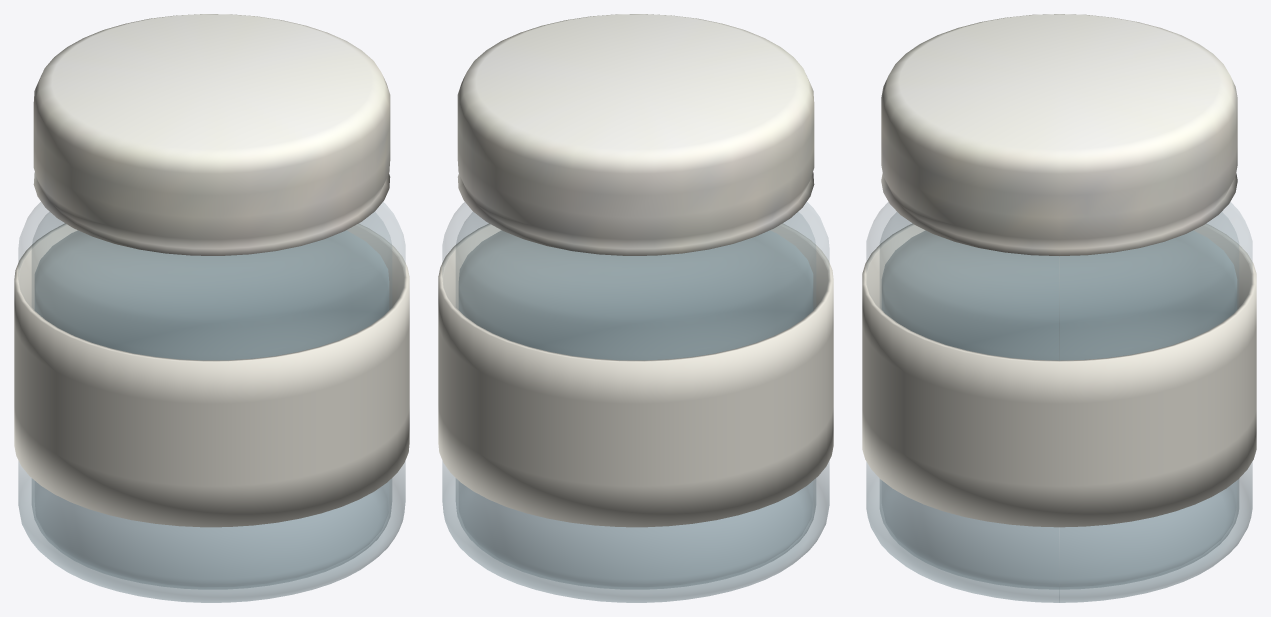
File: powder-jar.glb
3 views of the same model, side by side, from view 1: azimuth 30°, elevation 25°; view 2: azimuth 150°, elevation 25°; view 3: azimuth 270°, elevation 25° (orthographic).
Visible parts, largest first — view 1: powder-jar-label, powder-jar-lid, powder-jar-glass, powder-jar-inner; view 2: powder-jar-label, powder-jar-lid, powder-jar-glass, powder-jar-inner; view 3: powder-jar-label, powder-jar-lid, powder-jar-glass, powder-jar-inner.
Boxes of the visible parts, box(x1,y1,x2,y2) form: powder-jar-label: box(14, 223, 409, 527); powder-jar-lid: box(33, 14, 390, 255); powder-jar-glass: box(18, 202, 405, 602); powder-jar-inner: box(35, 230, 388, 586); powder-jar-label: box(438, 223, 833, 527); powder-jar-lid: box(457, 14, 814, 255); powder-jar-glass: box(442, 202, 829, 602); powder-jar-inner: box(459, 230, 812, 586); powder-jar-label: box(862, 223, 1256, 527); powder-jar-lid: box(881, 14, 1237, 255); powder-jar-glass: box(866, 202, 1252, 602); powder-jar-inner: box(882, 230, 1236, 586).
Size of what is drawn, in the model's own units: 6.54 by 8.2 by 6.53.
